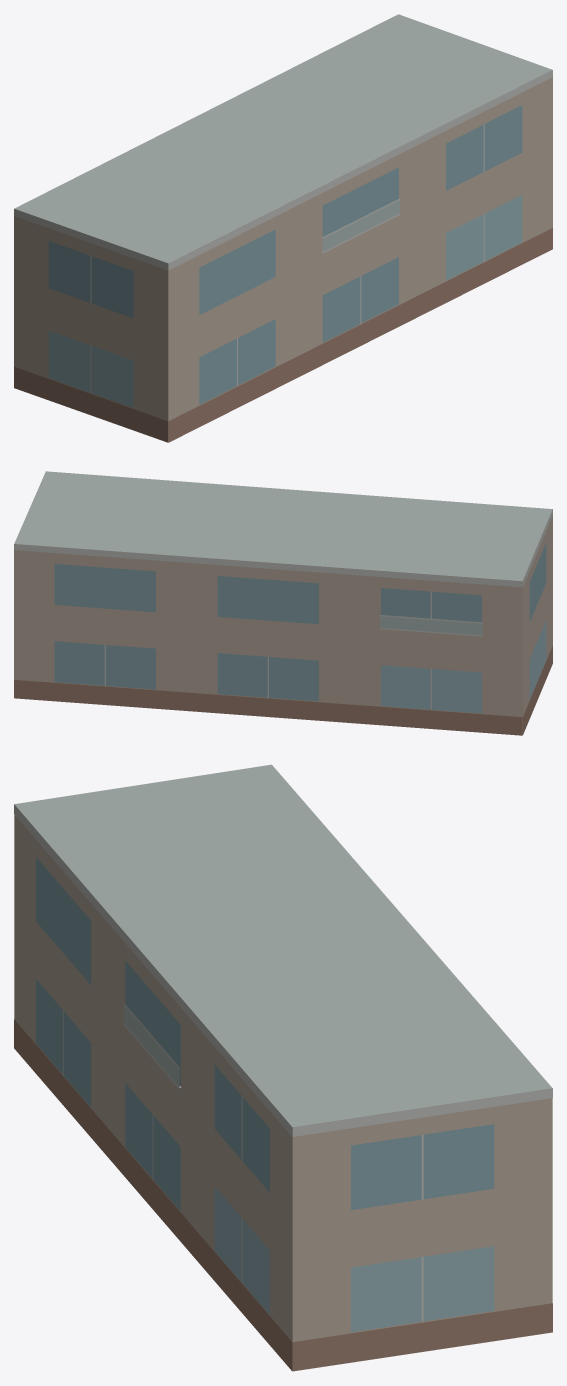
Rendered from survey-upis-32660927.glb.
3 views of the same model, one above another, from view 1: azimuth 30°, elevation 25°; view 2: azimuth 150°, elevation 25°; view 3: azimuth 270°, elevation 25° (orthographic). The views are drawn at different scales.
Visible parts, largest first — view 1: survey-upis-32660927.tmp; view 2: survey-upis-32660927.tmp; view 3: survey-upis-32660927.tmp.
Part boxes in pixels (x1,y1,x2,y2): survey-upis-32660927.tmp: (14, 14, 552, 442); survey-upis-32660927.tmp: (14, 471, 552, 735); survey-upis-32660927.tmp: (14, 764, 552, 1371).
Bounding box in the file's own units: 19.46 × 6.1 × 12.21.
